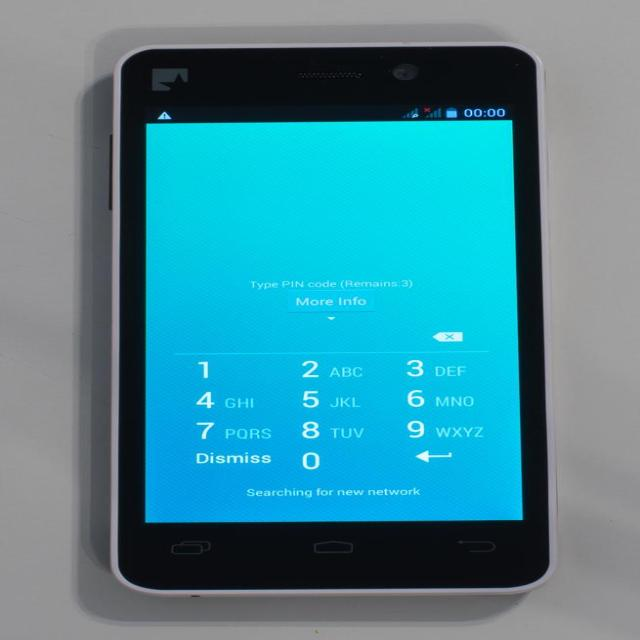mobile: (109, 42, 557, 597)
